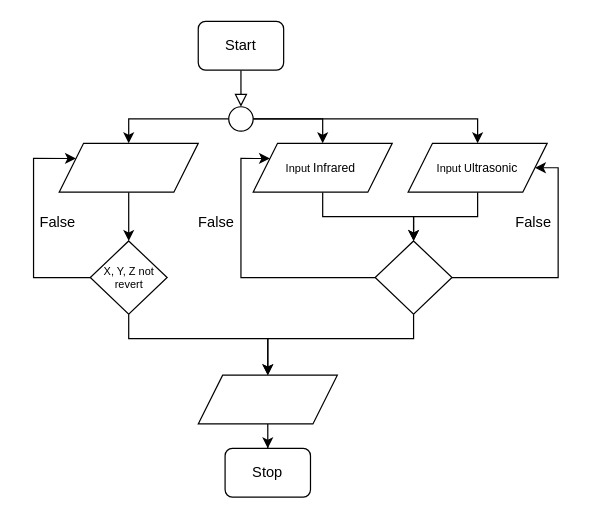
Image size: 590x519. Some labels were removed from this diagram. The shapes that lost their labels are listed below. From the top down, each one's centre as x and y in pixels, then its label:
[128,167]: Input Accelerometor X, Y, Z
[413,277]: Val = HIGH
[267,399]: Output Buzzer
